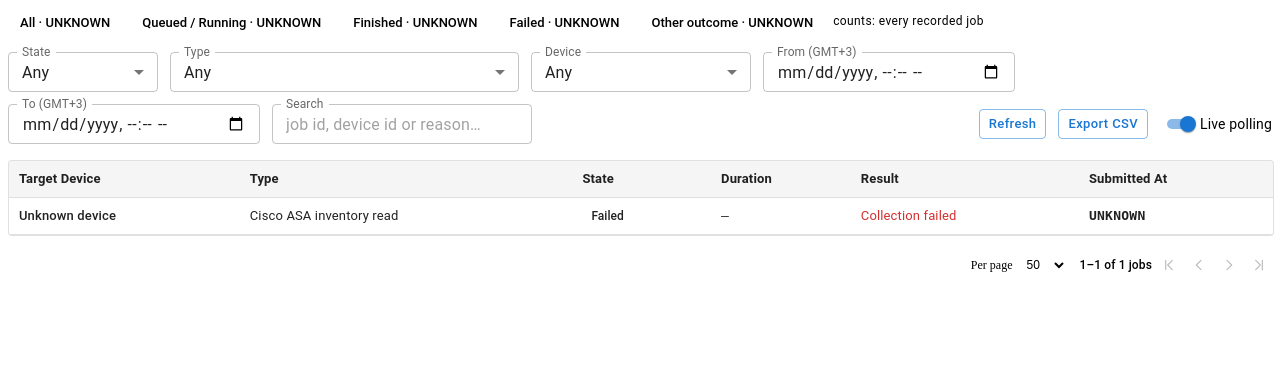
it: keeps job and device UUIDs in the expandable details
The width and height of the screenshot is (1280, 371).
Expected: the text "Unknown device" is shown, [9,198,240,234]
Expected: the text "Cisco ASA inventory read" is shown, [250,208,398,223]
Click the text "Unknown device" at [641, 216], box [9,198,1273,234]
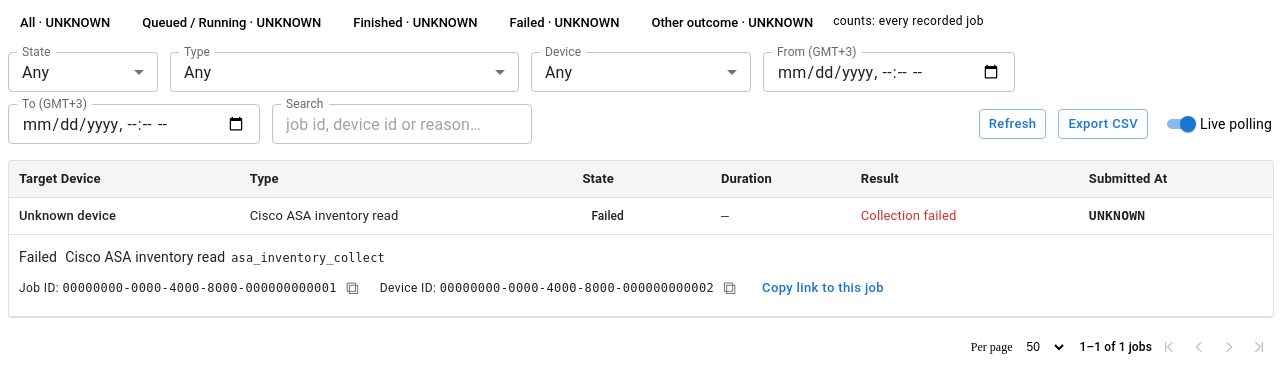
Expected: the text "00000000-0000-4000-8000-000000000001" is shown, [62,281,337,295]
Expected: the text "00000000-0000-4000-8000-000000000002" is shown, [440,281,714,295]
